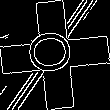O_E: (28, 31, 82, 79)
